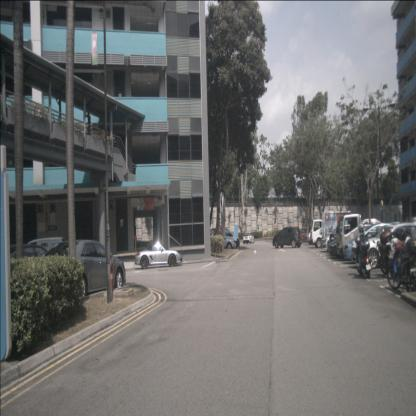vehicle-car: (42, 240, 126, 299), (0, 245, 69, 295), (352, 223, 416, 269), (344, 223, 402, 266), (23, 237, 65, 279), (134, 242, 183, 269), (322, 225, 358, 252), (272, 227, 302, 248), (210, 229, 240, 249), (305, 226, 333, 245), (206, 232, 234, 250), (294, 229, 311, 243), (243, 232, 255, 244)
vehicle-motorcycle: (387, 230, 416, 295), (372, 229, 396, 280), (354, 223, 372, 279)
vehicle-truck: (336, 214, 397, 262), (310, 211, 352, 248)
